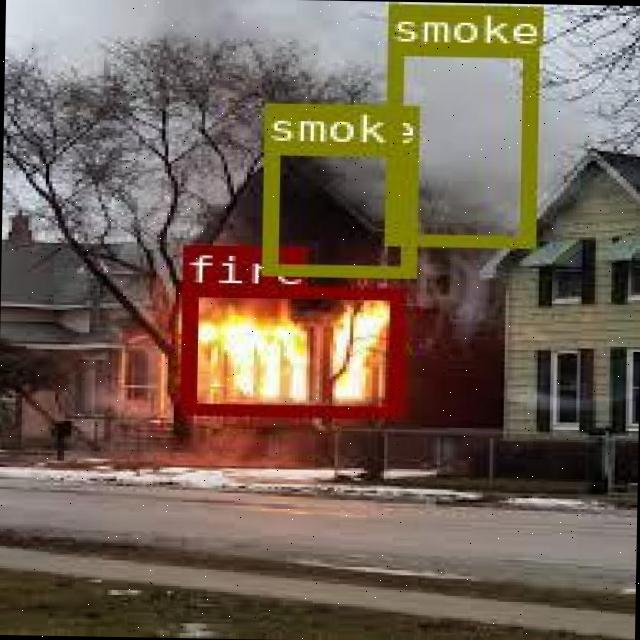fire: (178, 284, 402, 416)
smoke: (384, 43, 534, 246), (260, 142, 415, 275)
